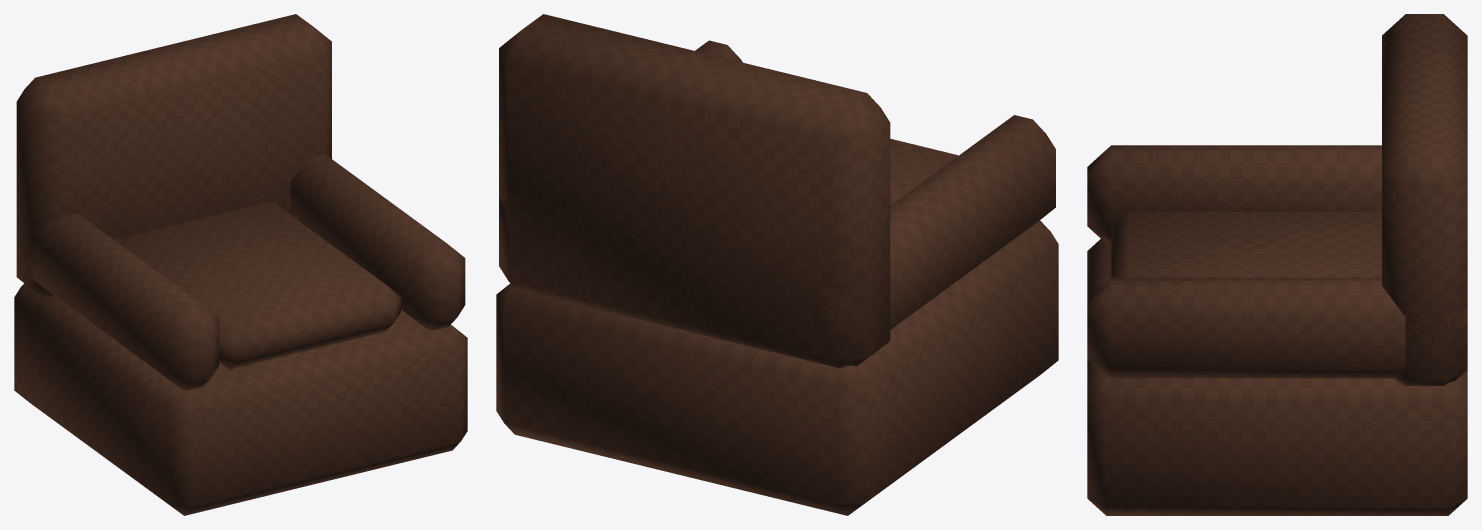
File: poltrona.glb
3 renders of one model, left to right at view 1: azimuth 30°, elevation 25°; view 2: azimuth 150°, elevation 25°; view 3: azimuth 270°, elevation 25°, orthographic. The views are drawn at different scales.
Parts seen in each view (by area): view 1: Inteiro; view 2: Inteiro; view 3: Inteiro.
Part boxes in pixels (x1,y1,x2,y2): Inteiro: (14, 14, 467, 515); Inteiro: (496, 14, 1058, 515); Inteiro: (1087, 14, 1467, 515).
Bounding box in the file's own units: 0.8 × 0.835 × 0.8.
Materials: 1 (1 with a texture image).
